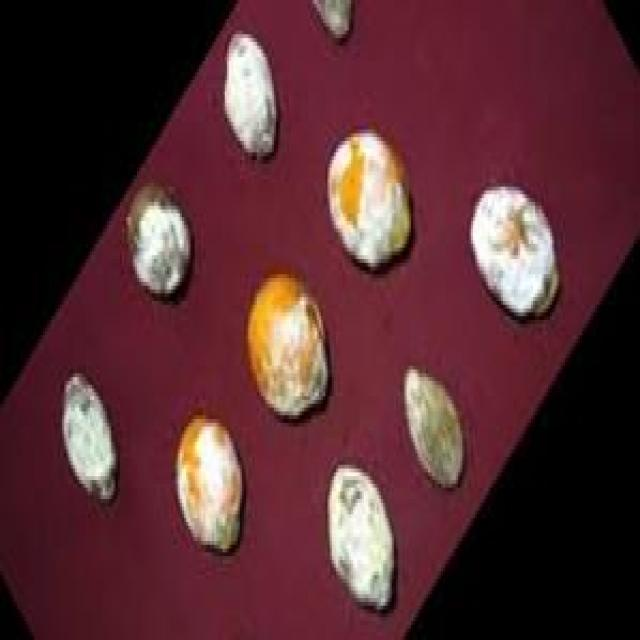damaged: (246, 270, 332, 427), (471, 183, 563, 328), (325, 130, 415, 278), (327, 465, 400, 613), (176, 415, 246, 560), (124, 183, 195, 305), (60, 373, 122, 507), (223, 30, 283, 164), (402, 373, 469, 491)
